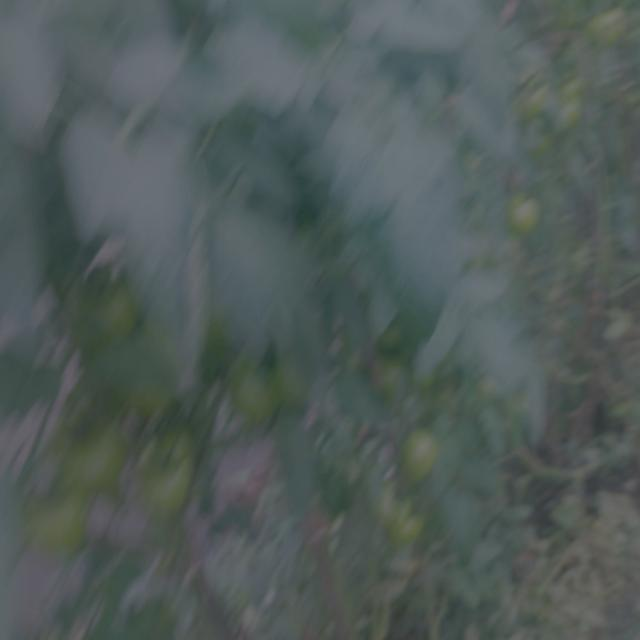tomato: (139, 443, 198, 529), (57, 410, 117, 482), (221, 355, 282, 424), (28, 488, 90, 548), (539, 80, 592, 141), (368, 344, 419, 405), (394, 424, 449, 480), (377, 490, 429, 548), (86, 282, 137, 341), (587, 6, 640, 50), (503, 190, 545, 243), (594, 296, 634, 349), (413, 63, 453, 107)
